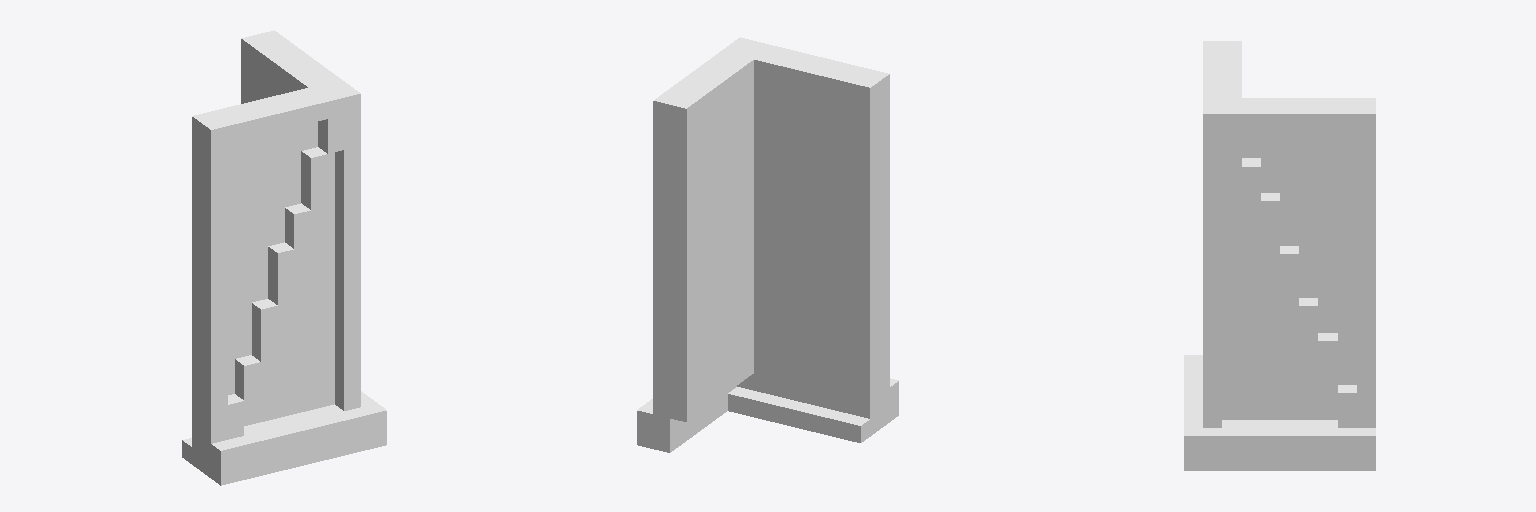
The model's file is house-9-wall_sub_inner_corner.obj.
3 renders of one model, left to right at view 1: azimuth 30°, elevation 25°; view 2: azimuth 150°, elevation 25°; view 3: azimuth 270°, elevation 25°, orthographic.
Visible parts, largest first — view 1: wall_sub_inner_corner; view 2: wall_sub_inner_corner; view 3: wall_sub_inner_corner.
Part boxes in pixels (bbox=[...]): wall_sub_inner_corner: bbox=[182, 30, 386, 485]; wall_sub_inner_corner: bbox=[637, 37, 898, 452]; wall_sub_inner_corner: bbox=[1184, 41, 1375, 470].
Bounding box in the file's own units: 1 × 2 × 1.